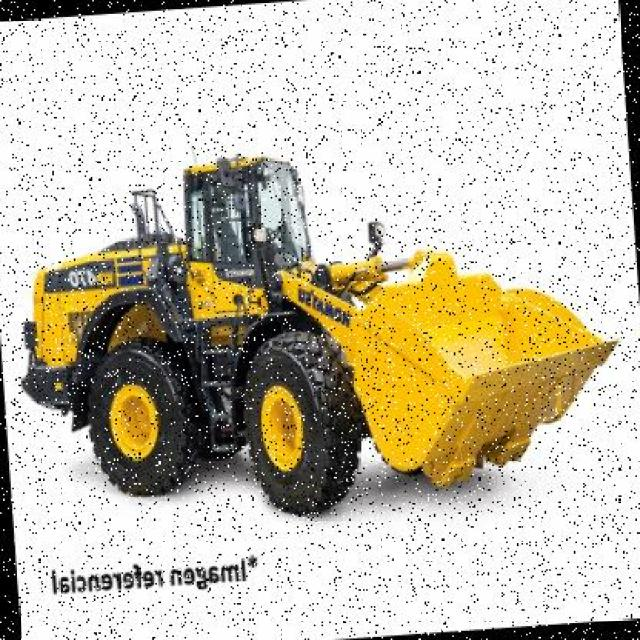buldozerpayloadergrader: (0, 115, 634, 543)
